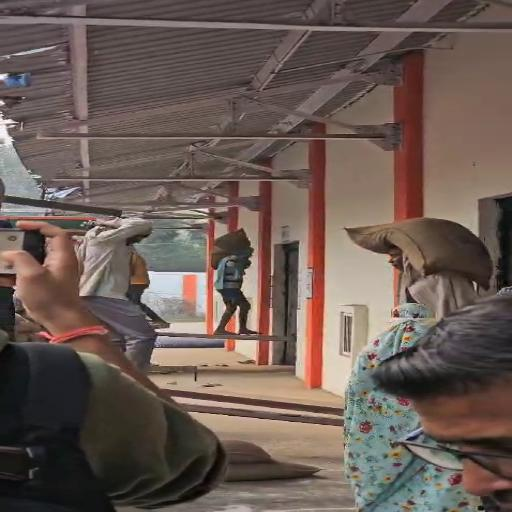bag: (343, 215, 505, 284)
